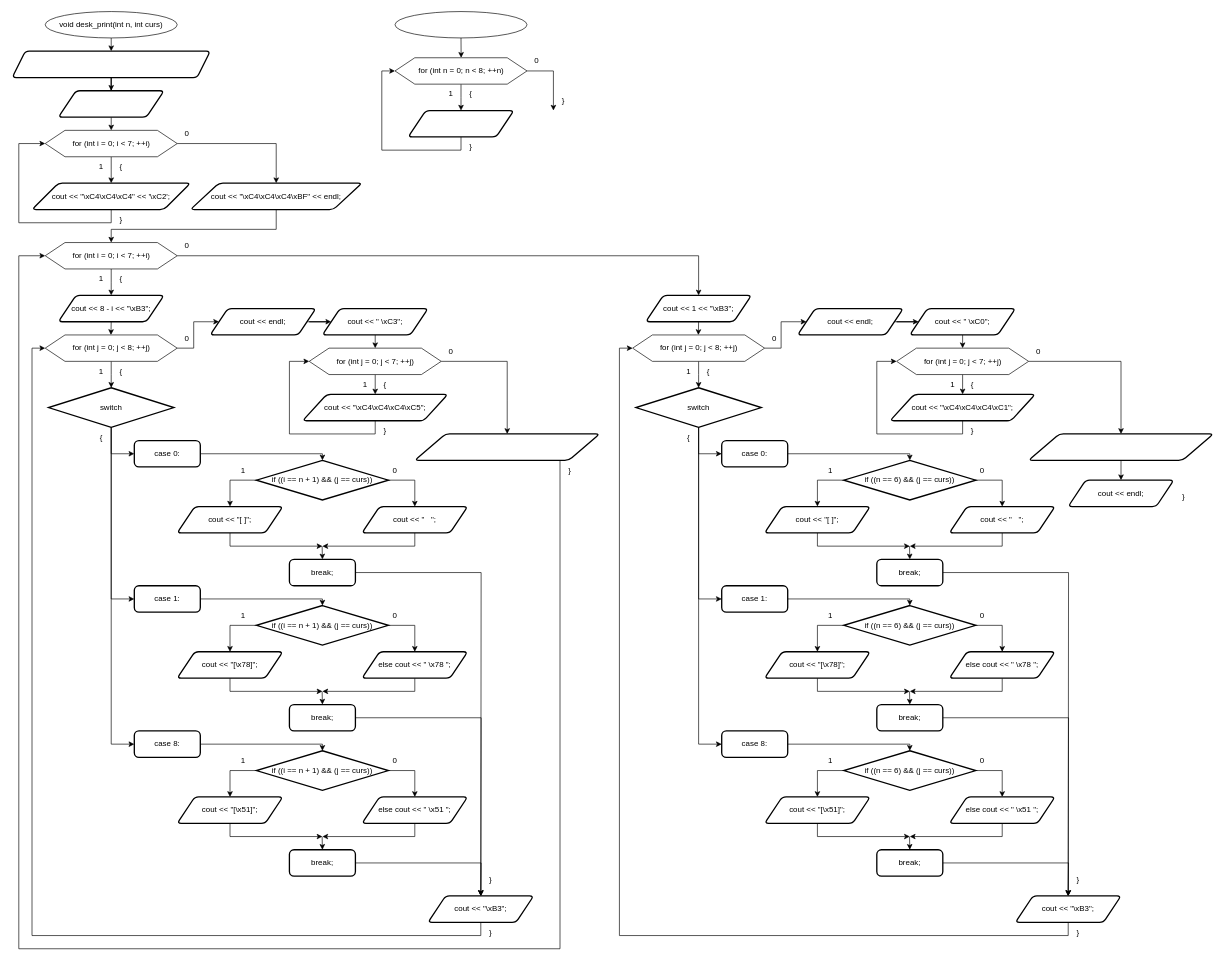
This 1225x966 diagram has some shape labels left out. The shapes that lost their labels are listed below. From the top down, each one's centre as x and y in pixels, then its label:
pixel 460 24: void desk_print_all()
pixel 111 64: cout << " A B C D E F G H" << endl;
pixel 110 103: cout << " \xDA";
pixel 460 123: desk_print(n, - 1);
pixel 507 447: cout << "\xC4\xC4\xC4\xB4" << endl;
pixel 1121 447: cout << "\xC4\xC4\xC4\xD9" << endl;
